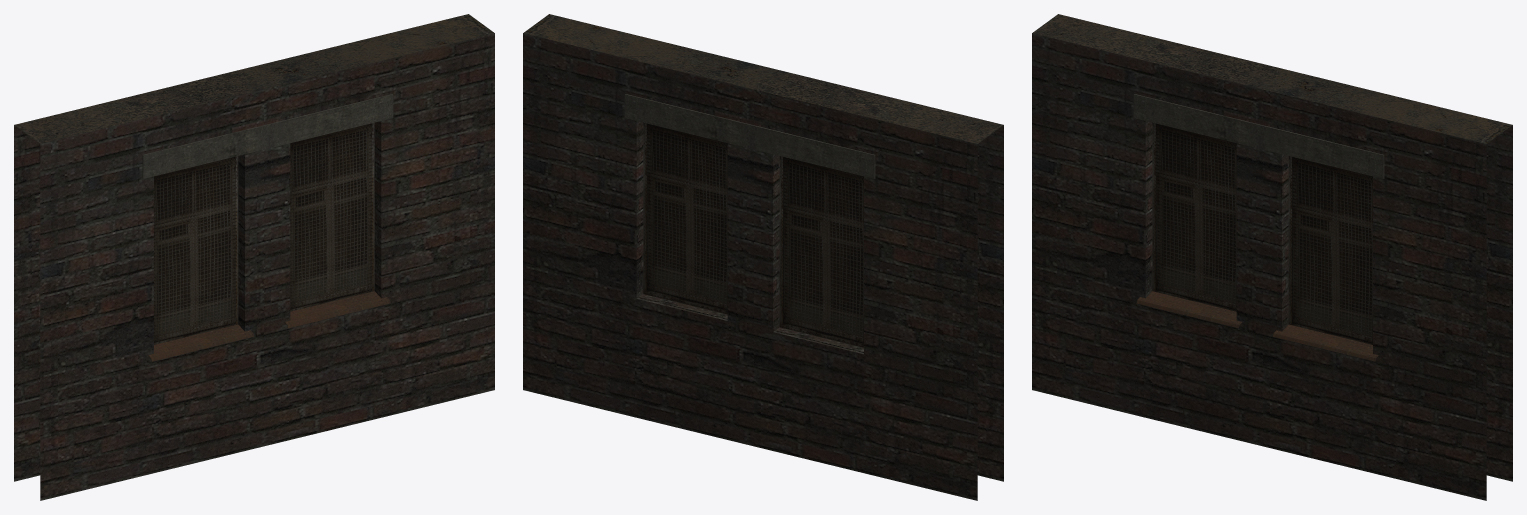
Rendered from windows_hs_1.obj.
3 views of the same model, side by side, from view 1: azimuth 30°, elevation 25°; view 2: azimuth 150°, elevation 25°; view 3: azimuth 330°, elevation 25° (orthographic).
Visible parts, largest first — view 1: windows_hs_1; view 2: windows_hs_1; view 3: windows_hs_1.
Boxes of the visible parts, x1,y1,x2,y2 form: windows_hs_1: (14,14,494,500); windows_hs_1: (523,14,1003,500); windows_hs_1: (1032,14,1512,500).
Size of the model in its own units: 4 by 3 by 0.465.
